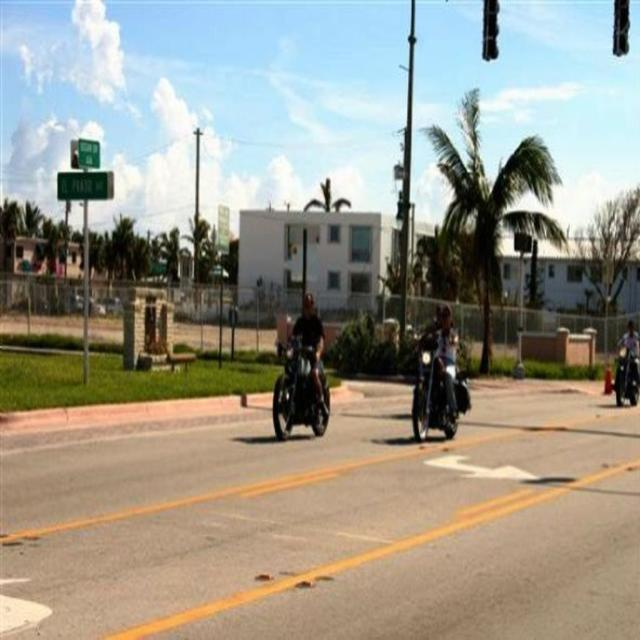off traffic light: (480, 0, 500, 65), (611, 0, 630, 55)
